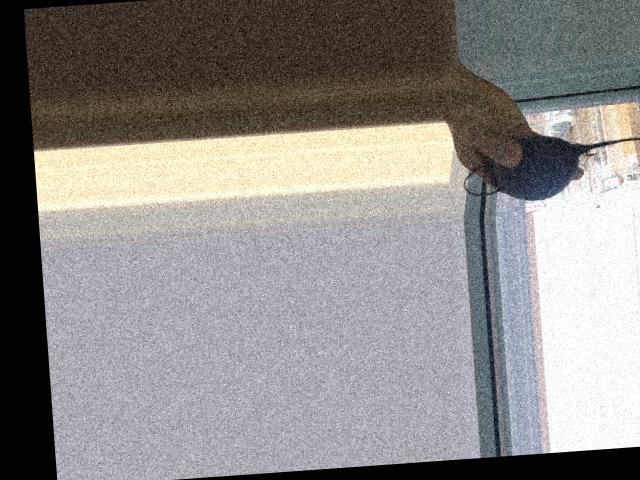beet: (461, 127, 640, 205)
